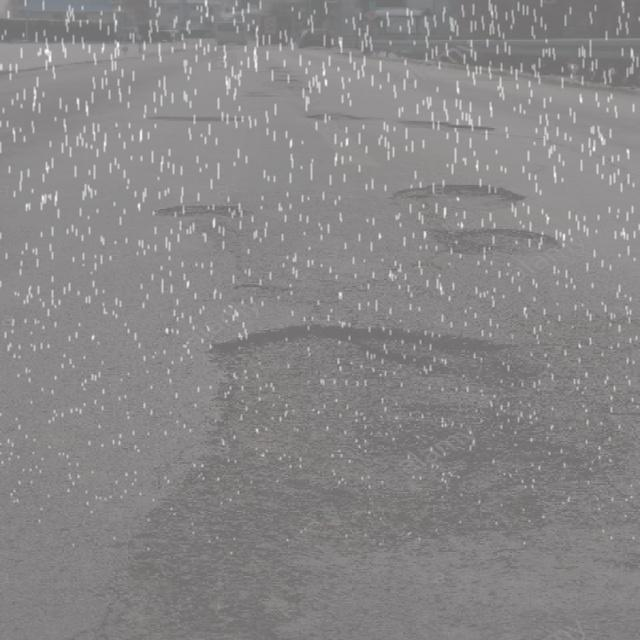Pothole: (111, 315, 640, 640), (422, 219, 578, 270), (294, 110, 504, 142), (371, 177, 537, 216), (144, 106, 242, 132), (145, 202, 246, 226), (260, 62, 312, 92), (245, 85, 280, 106)
